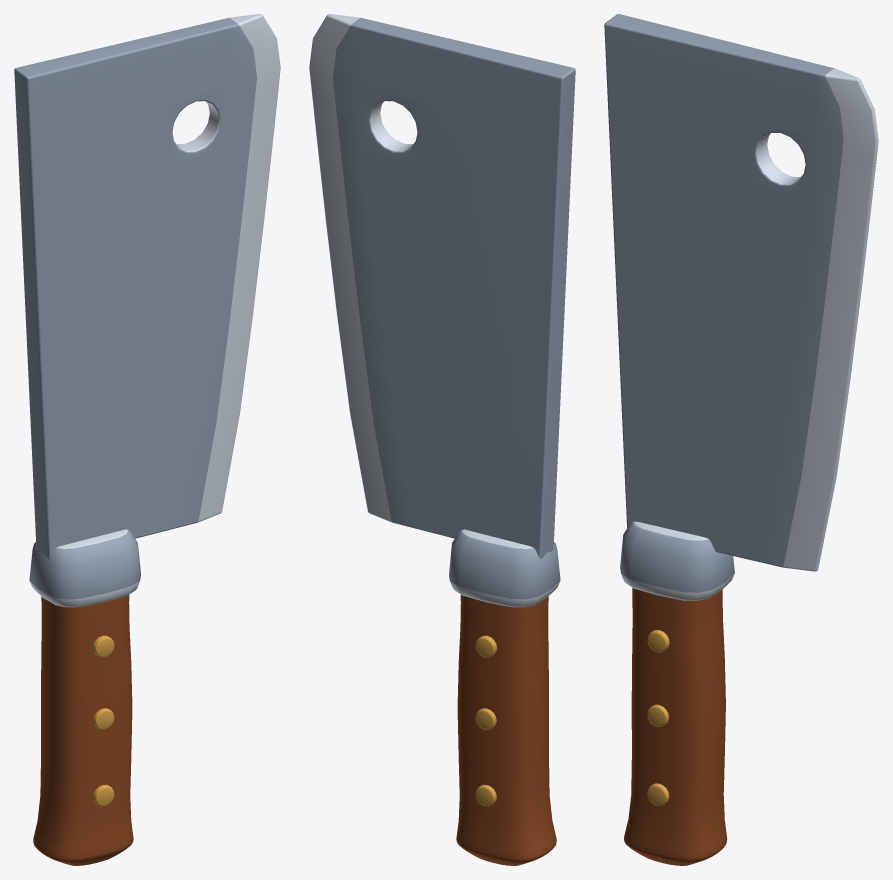
Rendered from Chef_Cleaver.glb.
3 views of the same model, side by side, from view 1: azimuth 30°, elevation 25°; view 2: azimuth 150°, elevation 25°; view 3: azimuth 330°, elevation 25° (orthographic). The views are drawn at different scales.
Parts seen in each view (by area): view 1: Cleaver_Blade, Cleaver_Handle, Cleaver_Bolster, Cleaver_Rivets; view 2: Cleaver_Blade, Cleaver_Handle, Cleaver_Bolster, Cleaver_Rivets; view 3: Cleaver_Blade, Cleaver_Handle, Cleaver_Bolster, Cleaver_Rivets.
Part boxes in pixels (bbox=[...]): Cleaver_Blade: bbox=[14, 14, 280, 558]; Cleaver_Handle: bbox=[33, 595, 133, 865]; Cleaver_Bolster: bbox=[29, 529, 140, 607]; Cleaver_Rivets: bbox=[93, 635, 114, 806]; Cleaver_Blade: bbox=[309, 14, 575, 558]; Cleaver_Handle: bbox=[456, 595, 556, 865]; Cleaver_Bolster: bbox=[449, 529, 560, 607]; Cleaver_Rivets: bbox=[475, 635, 496, 806]; Cleaver_Blade: bbox=[604, 14, 878, 571]; Cleaver_Handle: bbox=[624, 588, 727, 865]; Cleaver_Bolster: bbox=[620, 521, 734, 600]; Cleaver_Rivets: bbox=[647, 630, 669, 805].
Size of the model in its own units: 0.128 by 0.3749 by 0.036.
